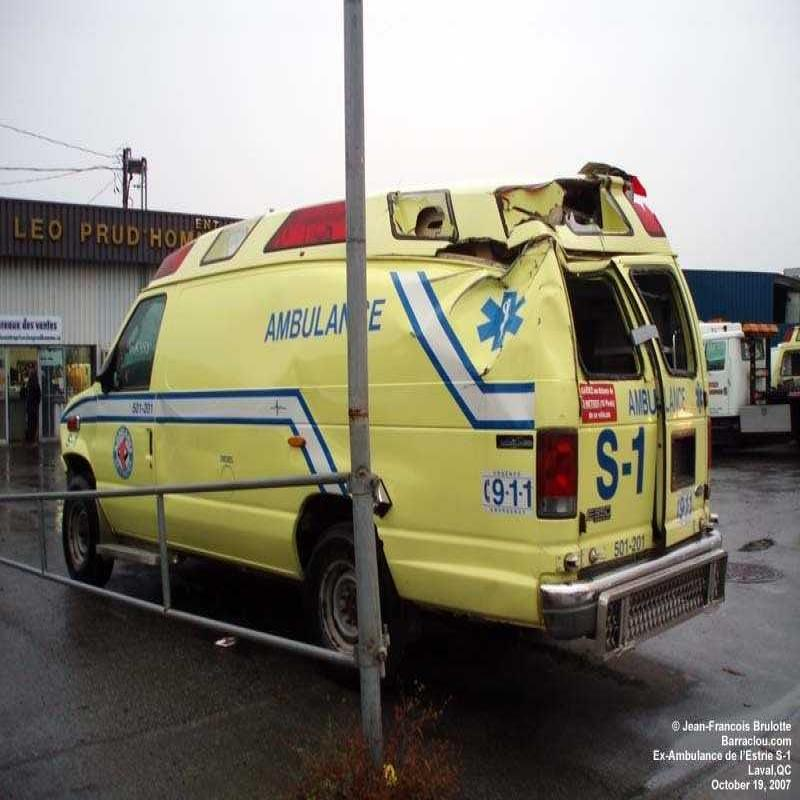AmbulanceSiren: (272, 204, 368, 276)
